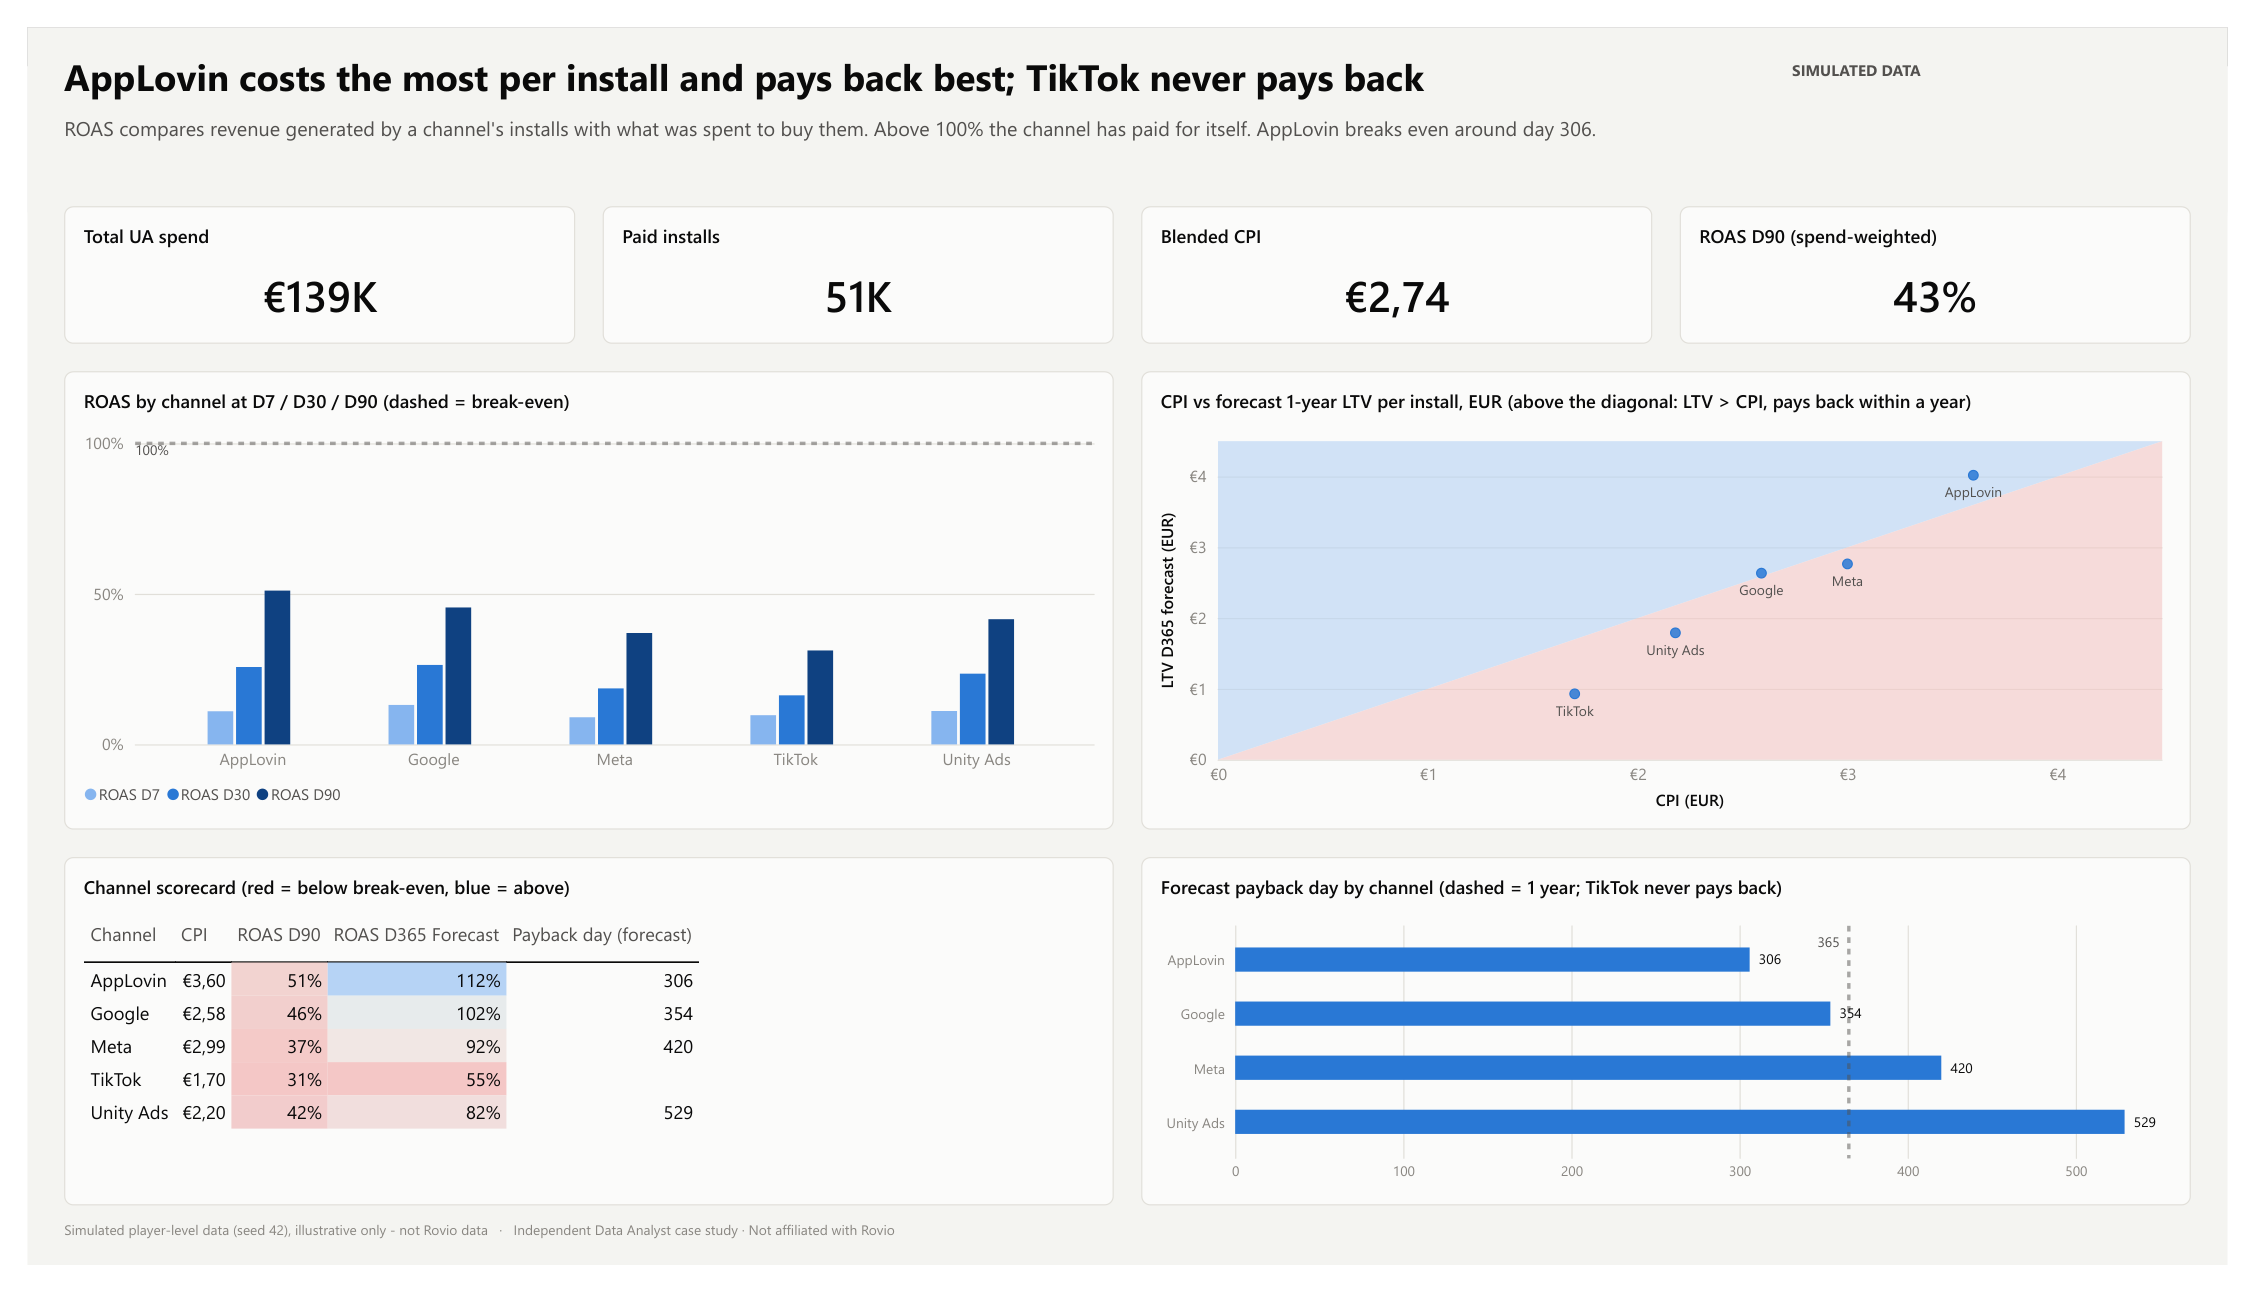

The dashboard page shown, as its layout file describes it:
{"tool":"powerbi","page":{"name":"2 · UA performance","canvas":[1920,1080],"ordinal":2},"visuals":[{"type":"textbox","box":[32,20,1500,56],"z":1000},{"type":"textbox","box":[1540,28,348,40],"z":2000},{"type":"textbox","box":[32,76,1856,64],"z":3000},{"type":"card","title":"Total UA spend","fields":{"Values":["_Measures.Total UA Spend"]},"box":[32,156,446,120],"z":4000},{"type":"card","title":"Paid installs","fields":{"Values":["_Measures.Paid Installs"]},"box":[502,156,446,120],"z":5000},{"type":"card","title":"Blended CPI","fields":{"Values":["_Measures.CPI"]},"box":[972,156,446,120],"z":6000},{"type":"card","title":"ROAS D90 (spend-weighted)","fields":{"Values":["_Measures.ROAS D90"]},"box":[1442,156,446,120],"z":7000},{"type":"clusteredColumnChart","title":"ROAS by channel at D7 / D30 / D90 (dashed = break-even)","fields":{"Category":["Channel.channel"],"Y":["_Measures.ROAS D7","_Measures.ROAS D30","_Measures.ROAS D90"]},"box":[32,300,916,400],"z":8000},{"type":"scatterChart","title":"CPI vs forecast 1-year LTV per install, EUR (above the diagonal: LTV > CPI, pays back within a year)","fields":{"Category":["Channel.channel"],"X":["_Measures.CPI Line"],"Y":["_Measures.LTV D365"]},"box":[972,300,916,400],"z":9000},{"type":"tableEx","title":"Channel scorecard (red = below break-even, blue = above)","fields":{"Values":["Channel.channel","_Measures.CPI","_Measures.ROAS D90","_Measures.ROAS D365 Forecast","_Measures.Payback Day"]},"box":[32,724,916,304],"z":10000},{"type":"clusteredBarChart","title":"Forecast payback day by channel (dashed = 1 year; TikTok never pays back)","fields":{"Category":["Channel.channel"],"Y":["_Measures.Payback Day"]},"box":[972,724,916,304],"z":11000},{"type":"textbox","box":[32,1040,1856,32],"z":12000}]}

Visuals, with their boxes in screenshot pixels (x1, y1, x2, y2), scaled from the page's 1920x1080 canvas onto the 2255x1293 screenshot:
textbox: 38 24 1799 91
textbox: 1809 34 2217 81
textbox: 38 91 2217 168
"Total UA spend" card: 38 187 561 330
"Paid installs" card: 590 187 1113 330
"Blended CPI" card: 1142 187 1665 330
"ROAS D90 (spend-weighted)" card: 1694 187 2217 330
"ROAS by channel at D7 / D30 / D90 (dashed = break-even)" clusteredColumnChart: 38 359 1113 838
"CPI vs forecast 1-year LTV per install, EUR (above the diagonal: LTV > CPI, pays back within a year)" scatterChart: 1142 359 2217 838
"Channel scorecard (red = below break-even, blue = above)" tableEx: 38 867 1113 1231
"Forecast payback day by channel (dashed = 1 year; TikTok never pays back)" clusteredBarChart: 1142 867 2217 1231
textbox: 38 1245 2217 1283
